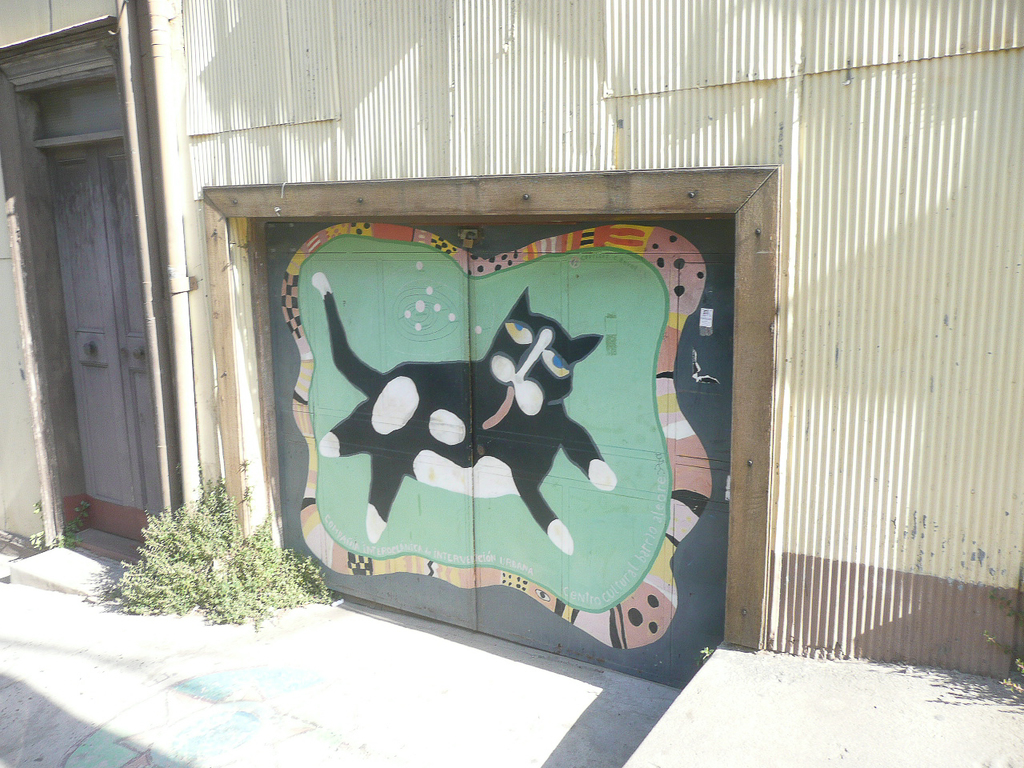Animal: (316, 269, 617, 547)
